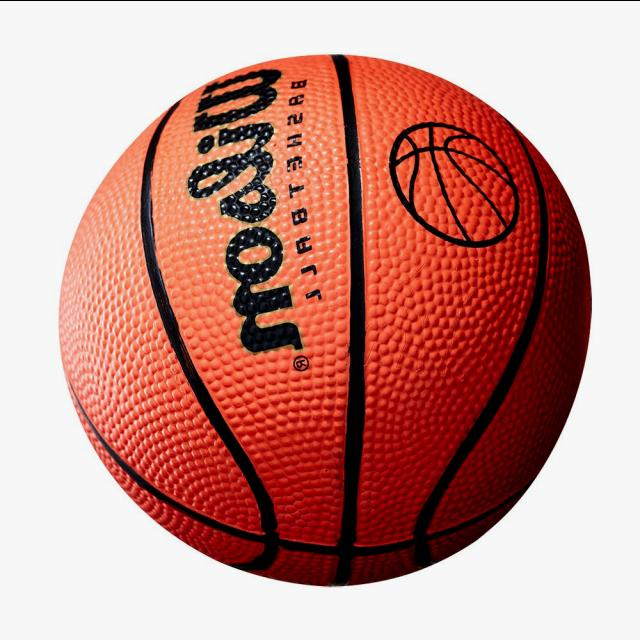non_orange: (73, 22, 580, 610)
